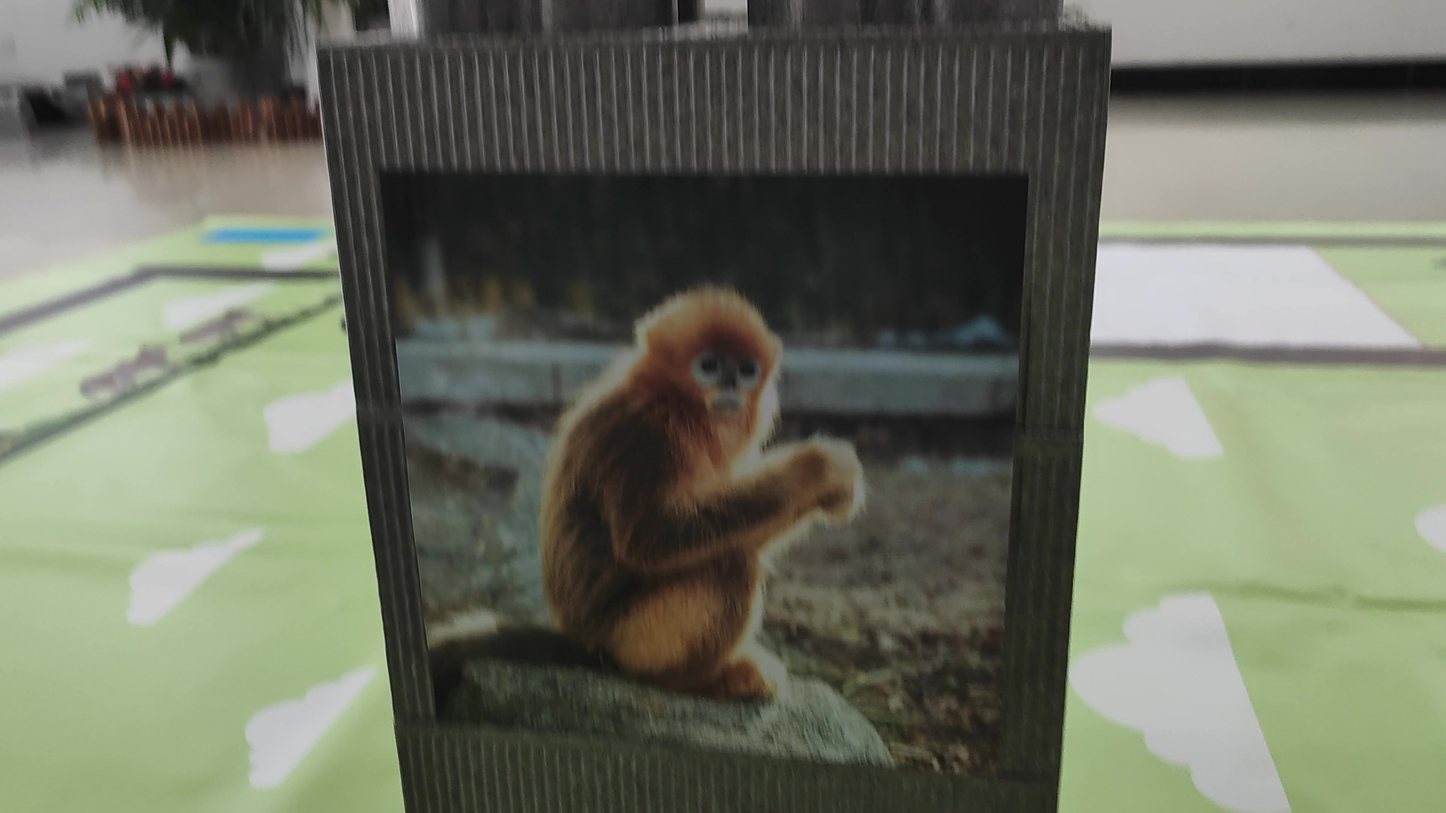monkey: (503, 244, 897, 688)
